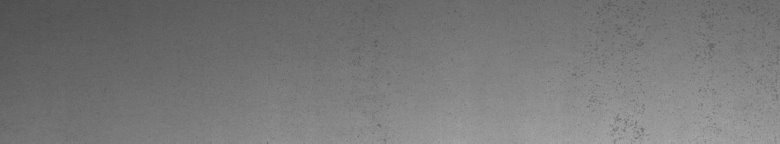ib: (572, 13, 764, 136)
